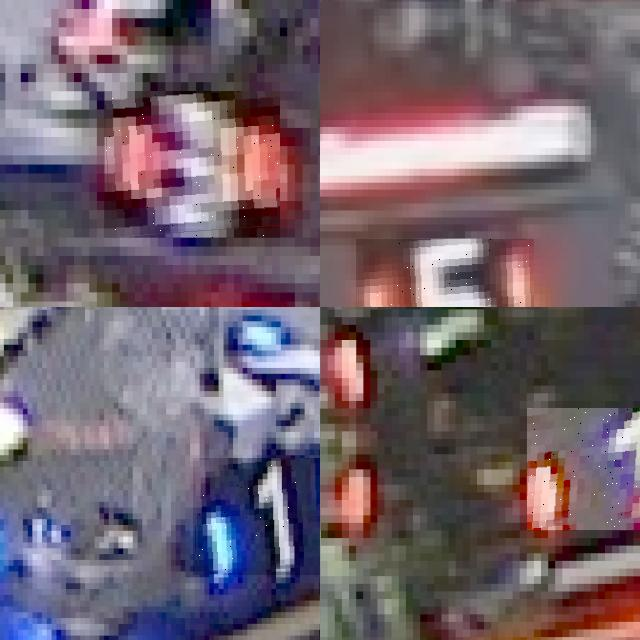B1: (192, 458, 320, 574)
R1: (526, 408, 640, 530)
R3: (104, 91, 280, 238)
R5: (356, 238, 533, 307)
